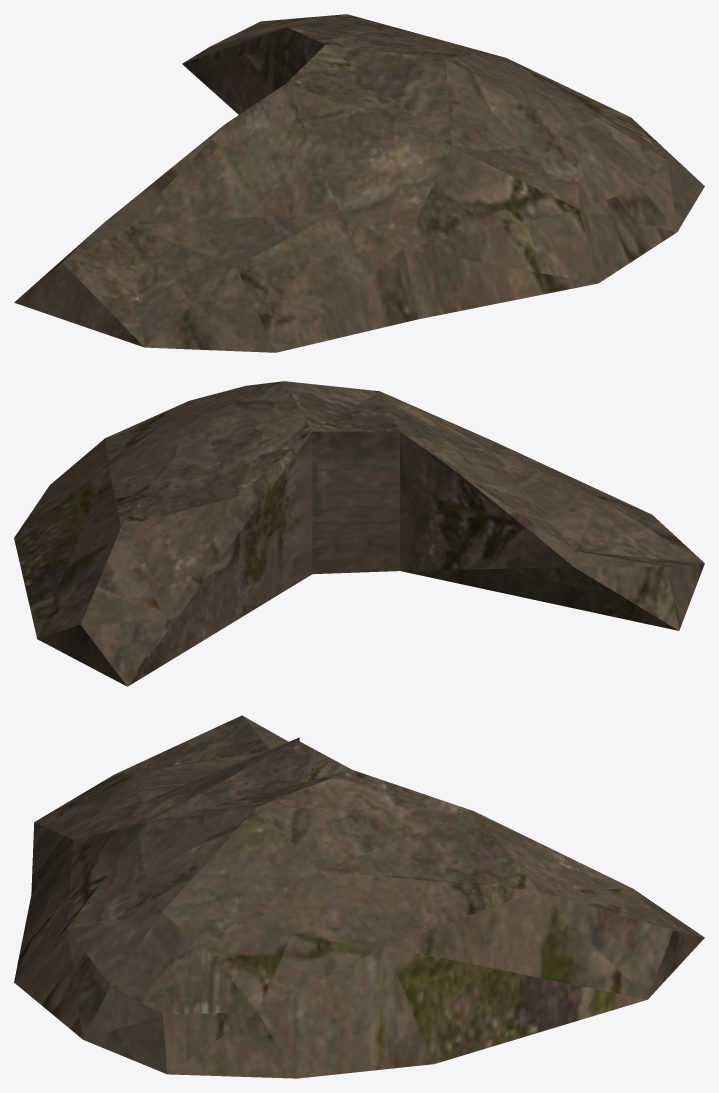
File: Rubbles_08.fbx
3 views of the same model, one above another, from view 1: azimuth 30°, elevation 25°; view 2: azimuth 150°, elevation 25°; view 3: azimuth 270°, elevation 25° (orthographic). The views are drawn at different scales.
Visible parts, largest first — view 1: Rubble_Corner_Out_Col:Rubble_Corner_Out_Col_0; view 2: Rubble_Corner_Out_Col:Rubble_Corner_Out_Col_0; view 3: Rubble_Corner_Out_Col:Rubble_Corner_Out_Col_0.
Boxes of the visible parts, x1,y1,x2,y2 form: Rubble_Corner_Out_Col:Rubble_Corner_Out_Col_0: (14, 14, 704, 352); Rubble_Corner_Out_Col:Rubble_Corner_Out_Col_0: (14, 381, 704, 686); Rubble_Corner_Out_Col:Rubble_Corner_Out_Col_0: (14, 715, 704, 1078).
Bounding box in the file's own units: 46.97 × 10.35 × 41.47.
Materials: 1 (1 with a texture image).
